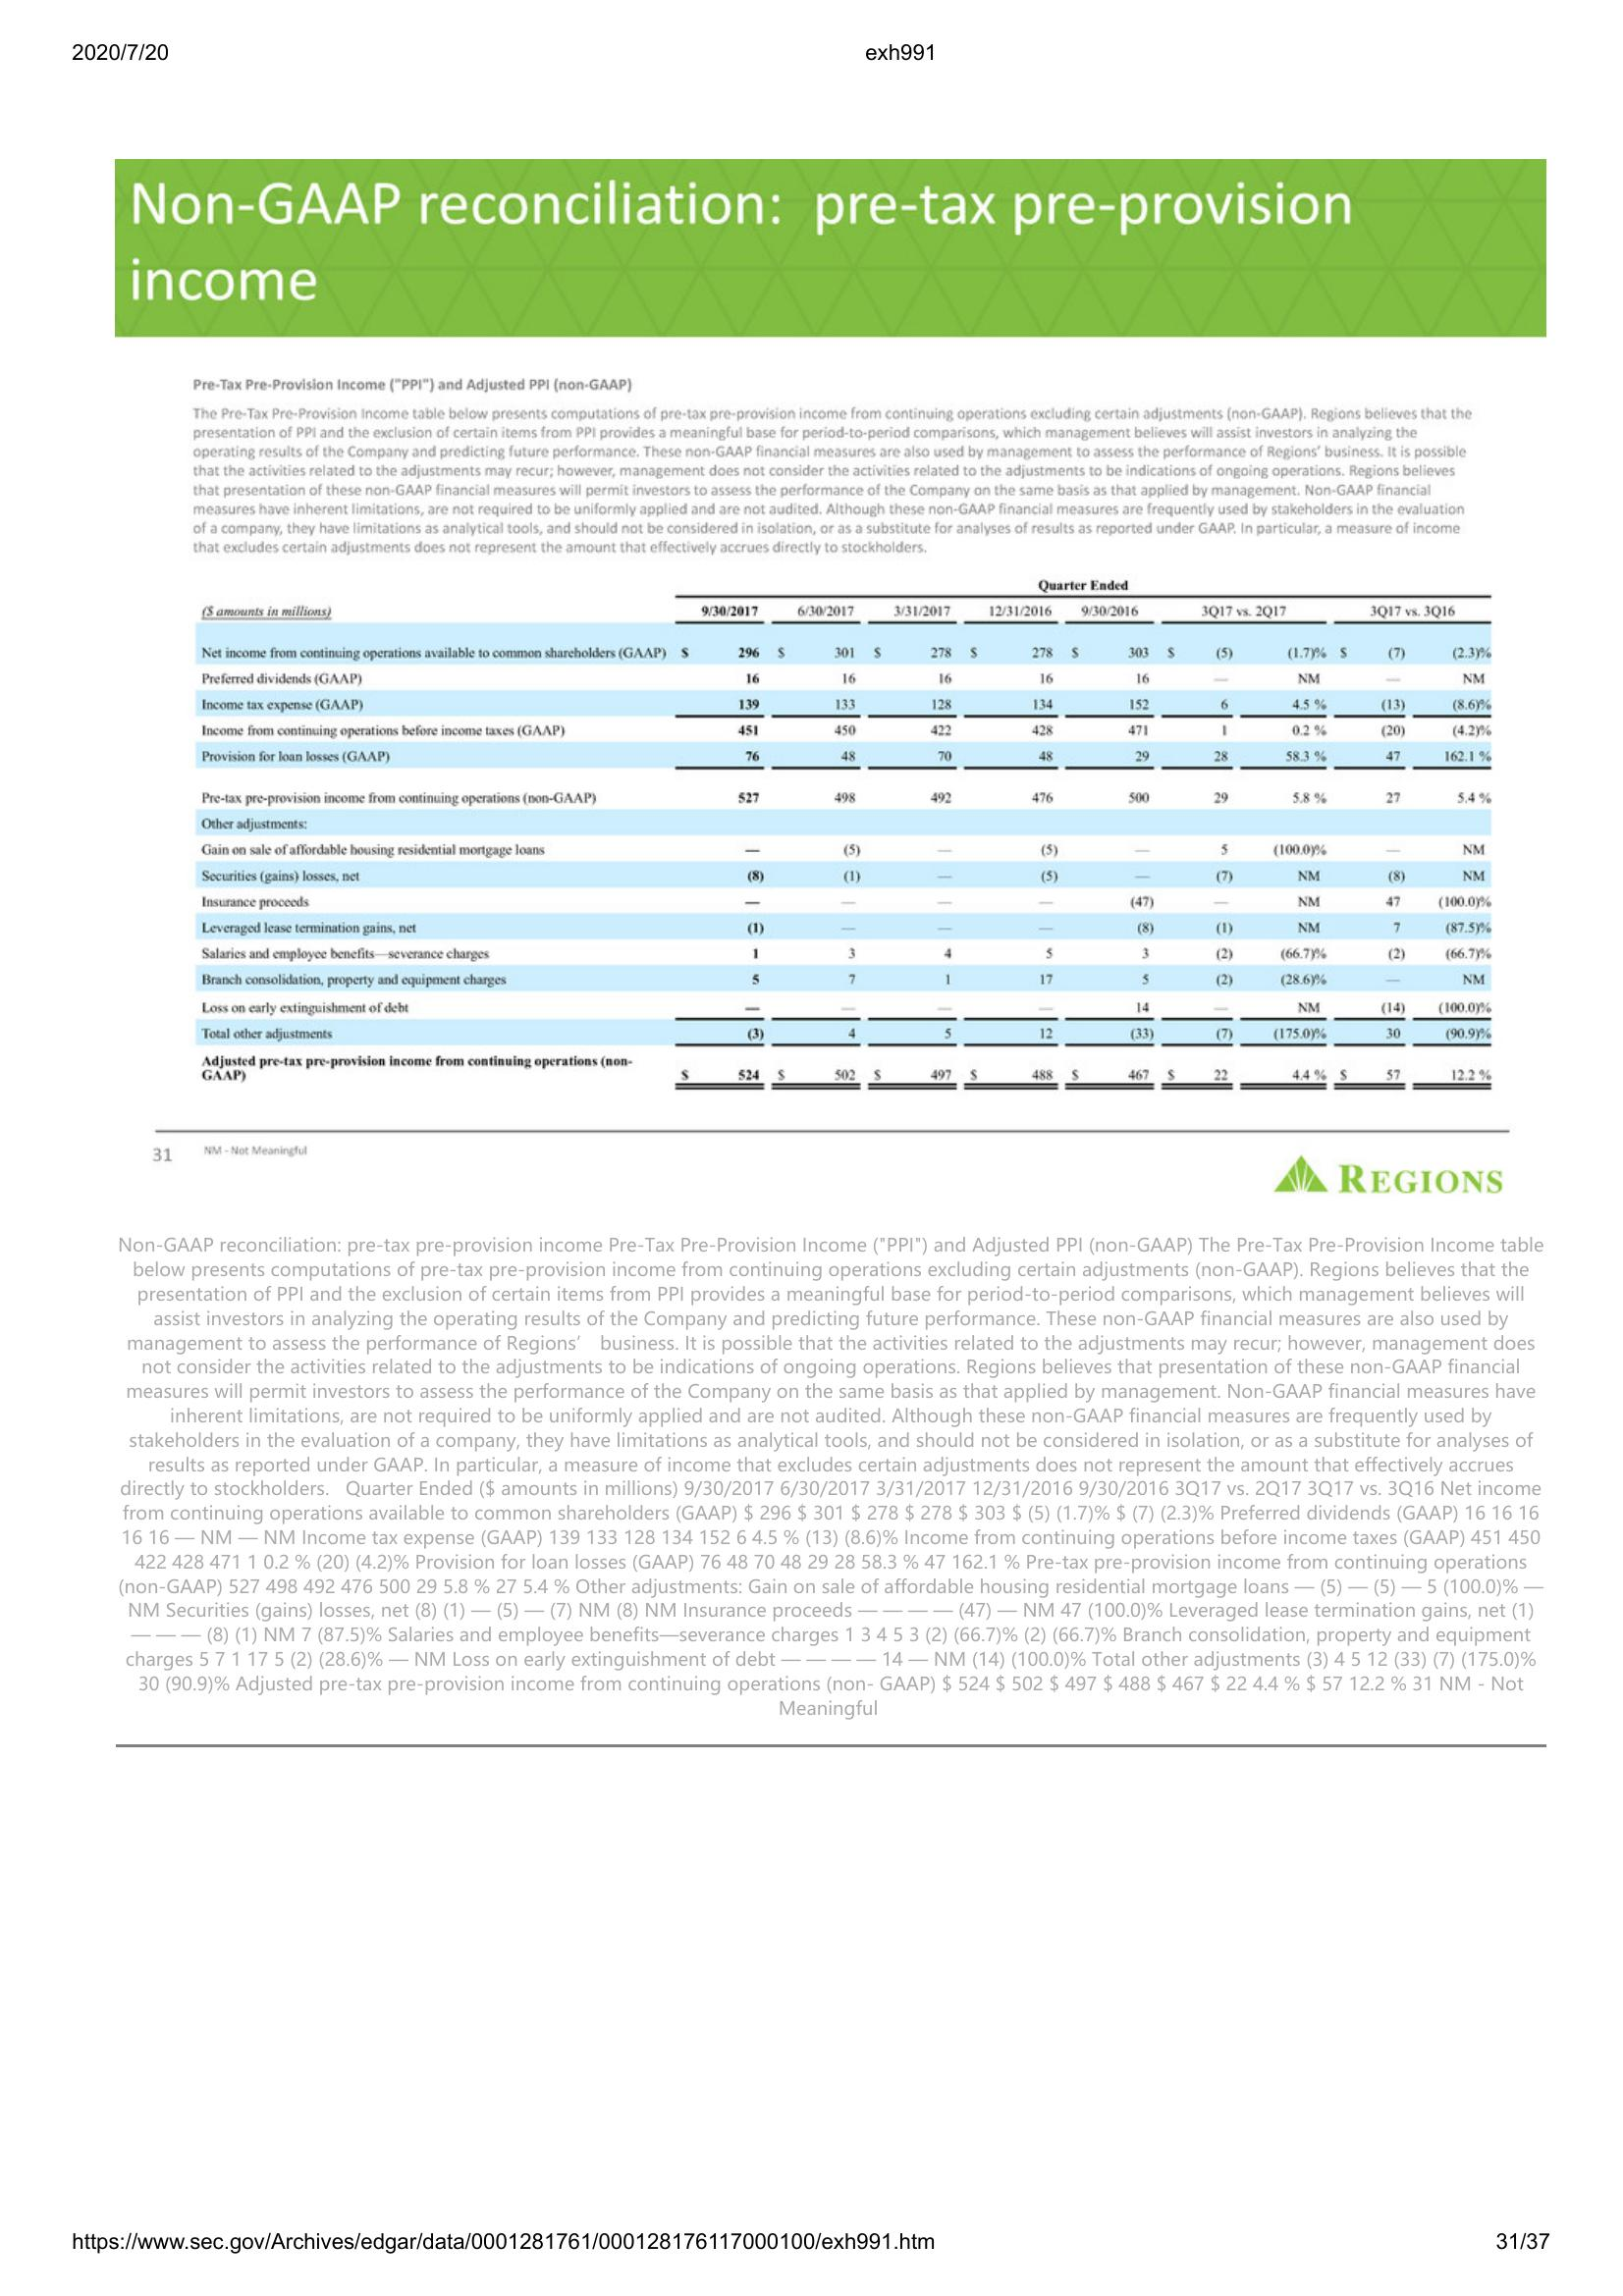table: (188, 578, 1498, 1097)
